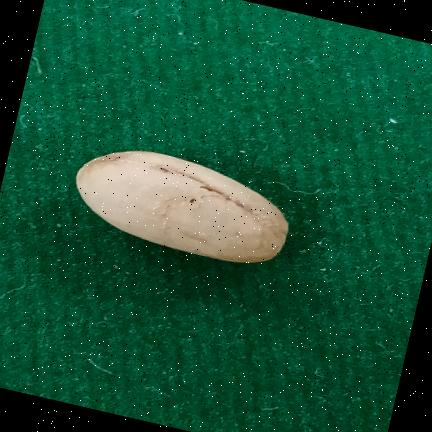parchment: (76, 151, 288, 262)
